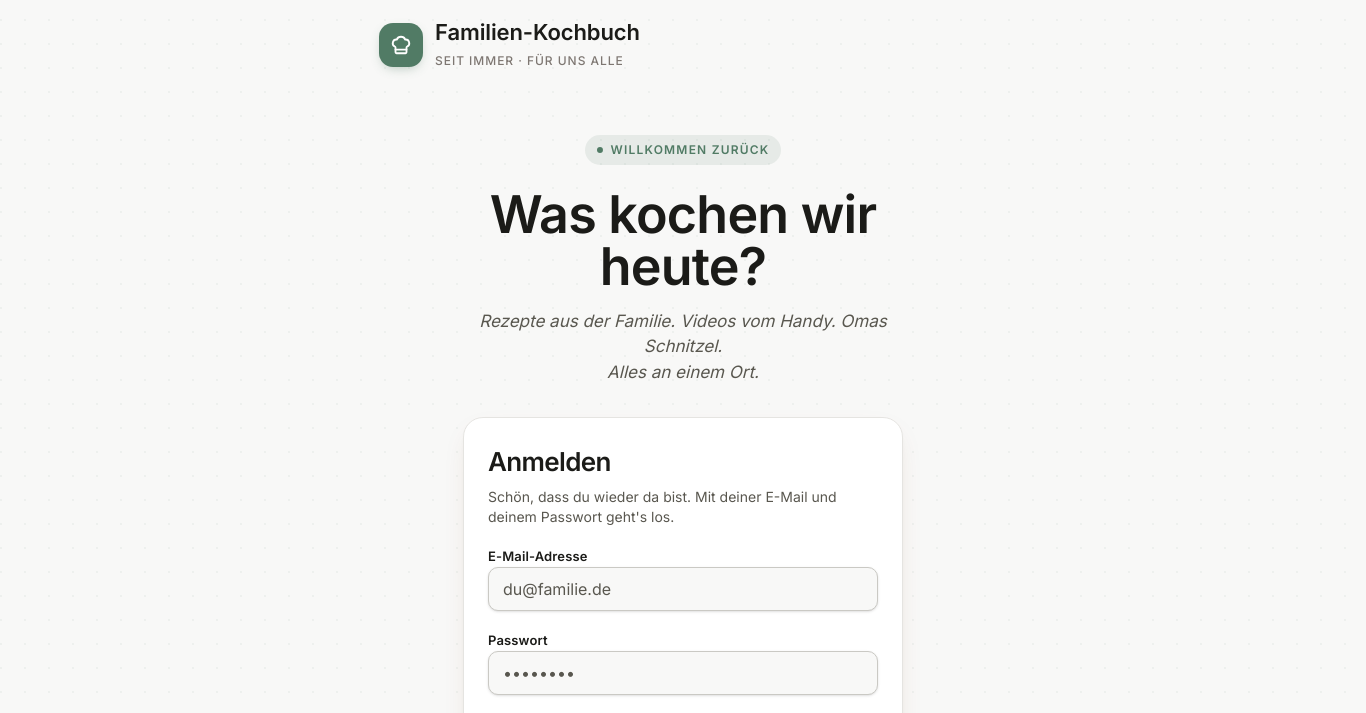
<LoginPage /> › on 401 surfaces the localised errors:invalid_credentials copy
Type "user@example.com" into the field labelled "E-Mail-Adresse" at (683, 589), box [488,567,878,611]
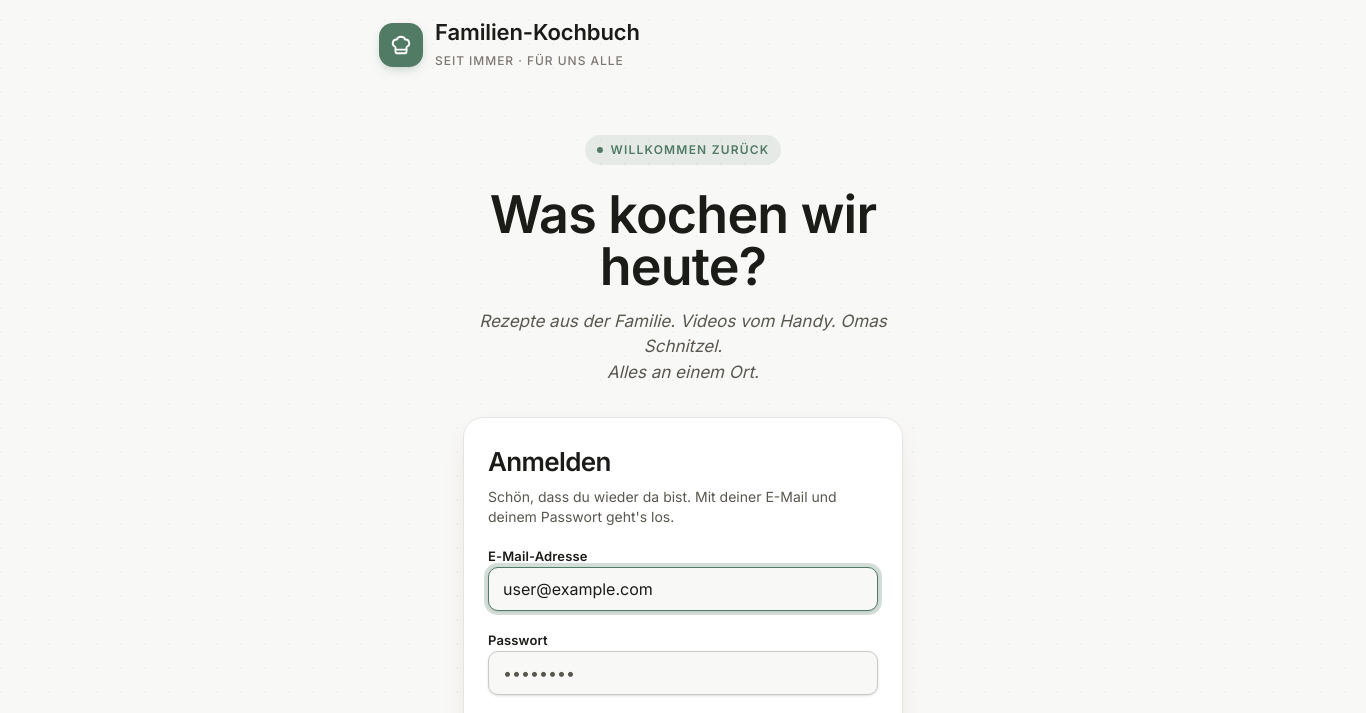
Type "wrong" into the password field labelled "Passwort" at (683, 673), box [488,651,878,695]
(page scrolled)
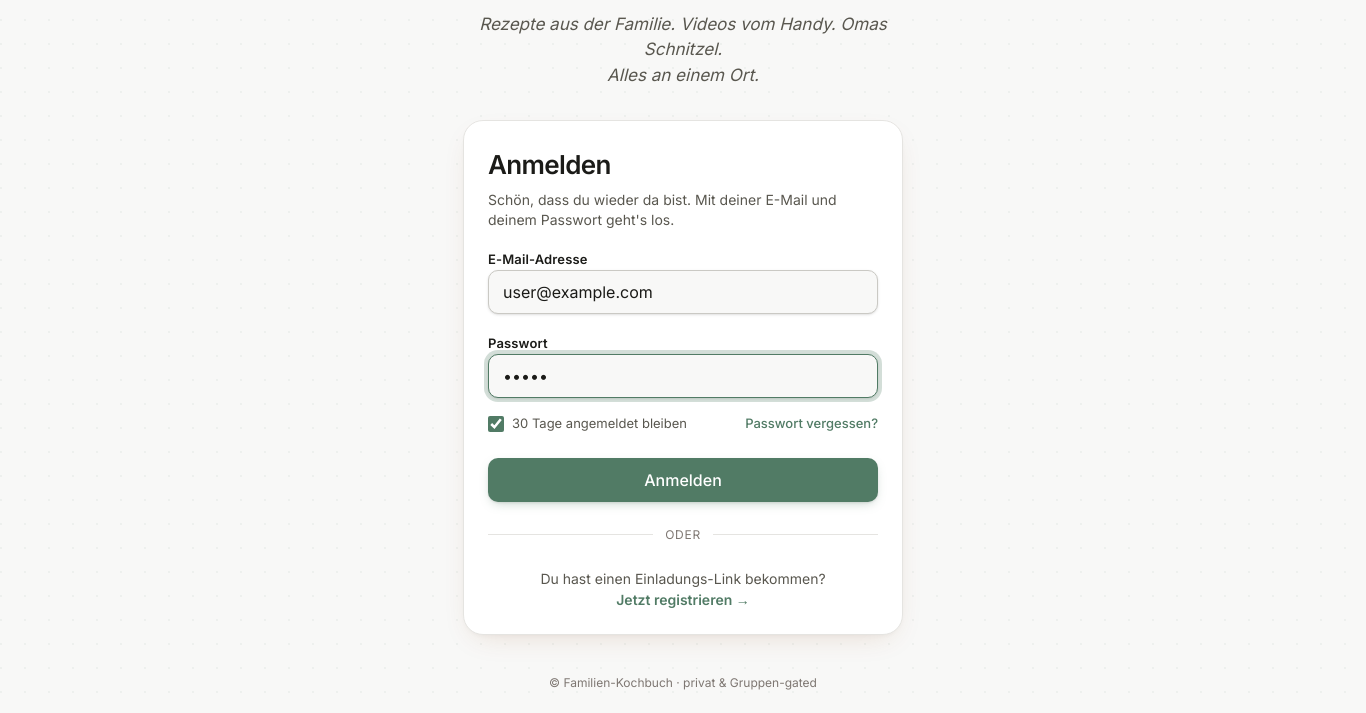
Click the button "Anmelden" at (683, 480), box [488,458,878,502]
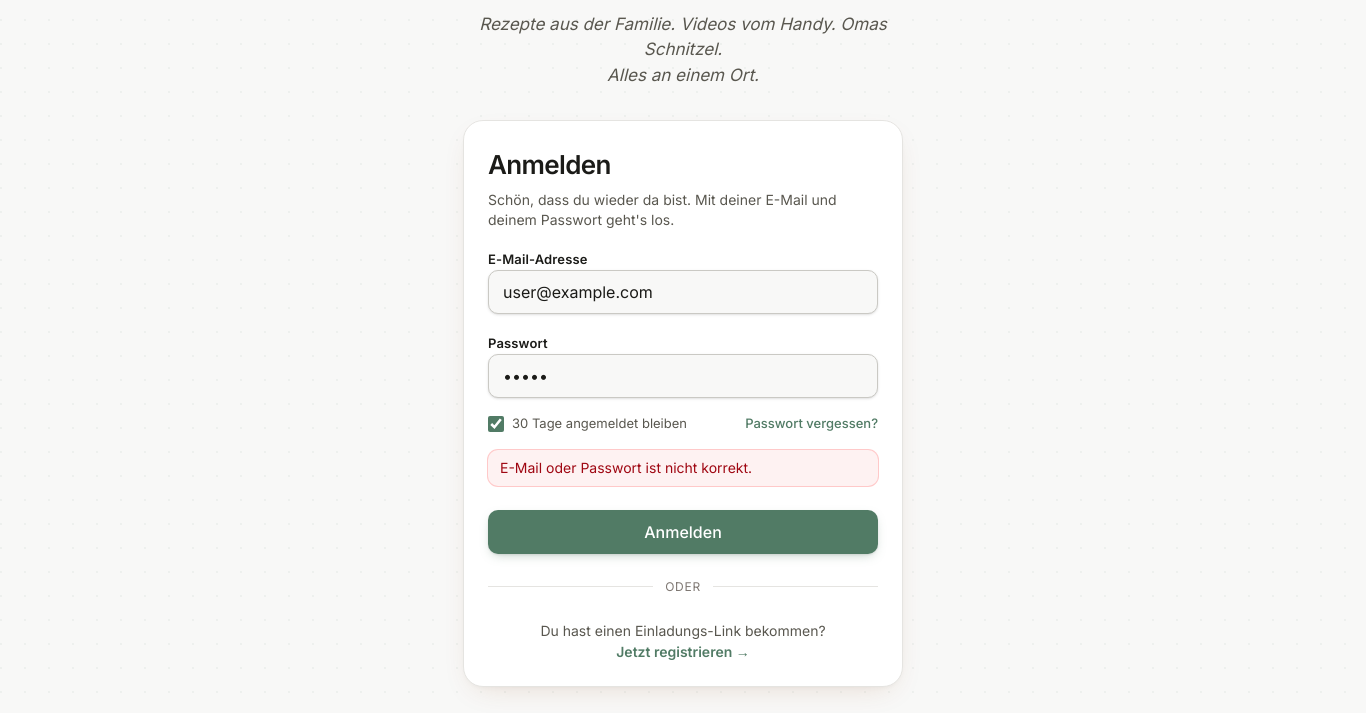
Expected: the message does not show "Invalid email or password", [488,450,878,486]
Now the message shows "E-Mail oder Passwort ist nicht korrekt", box [500,458,752,476]
